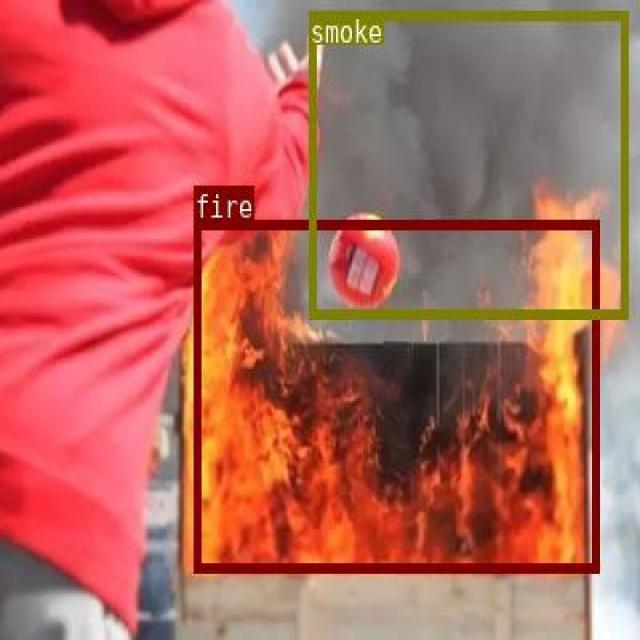fire: (192, 219, 597, 570)
smoke: (309, 9, 626, 316)
